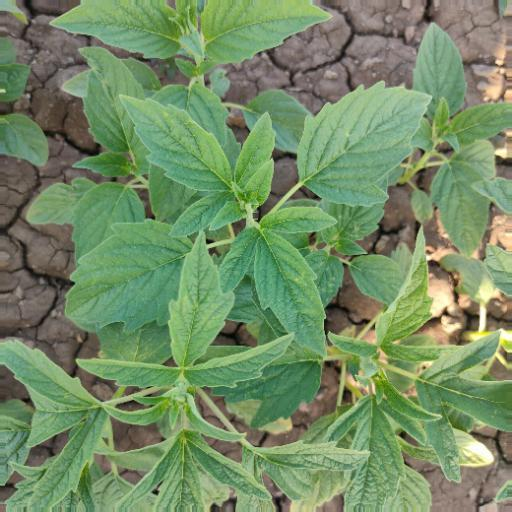crop: (18, 3, 512, 510)
